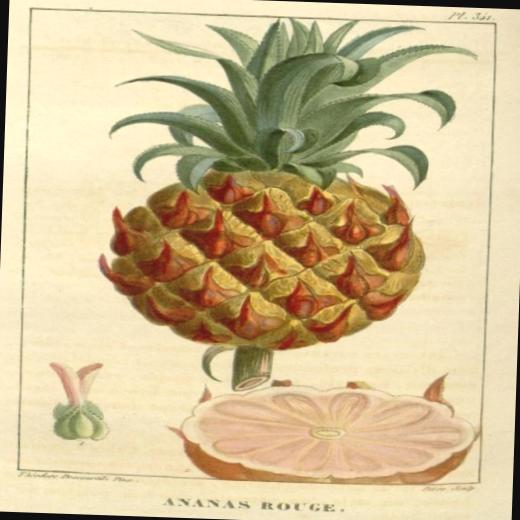Mango: (98, 5, 479, 390)
